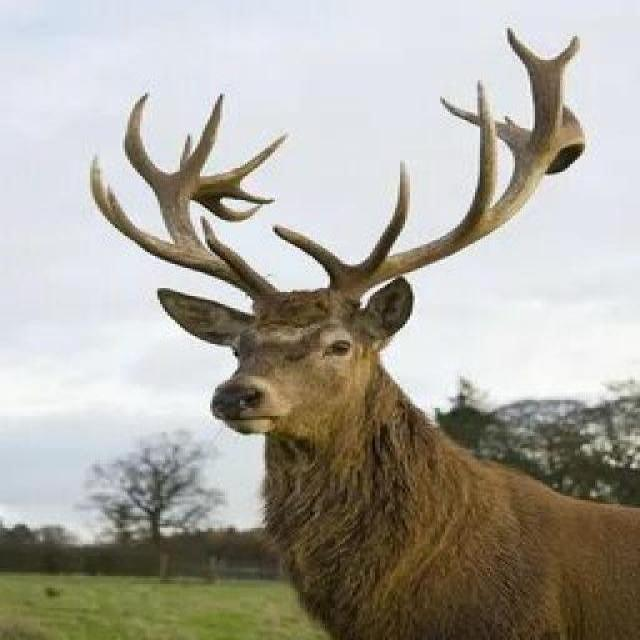deer: (101, 116, 640, 640)
